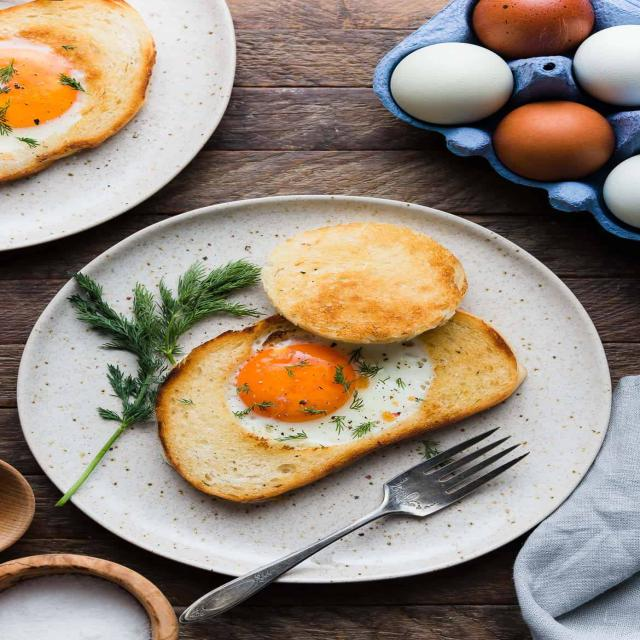Bread: (155, 311, 526, 502), (0, 0, 155, 181)
Egg: (210, 322, 435, 449)
